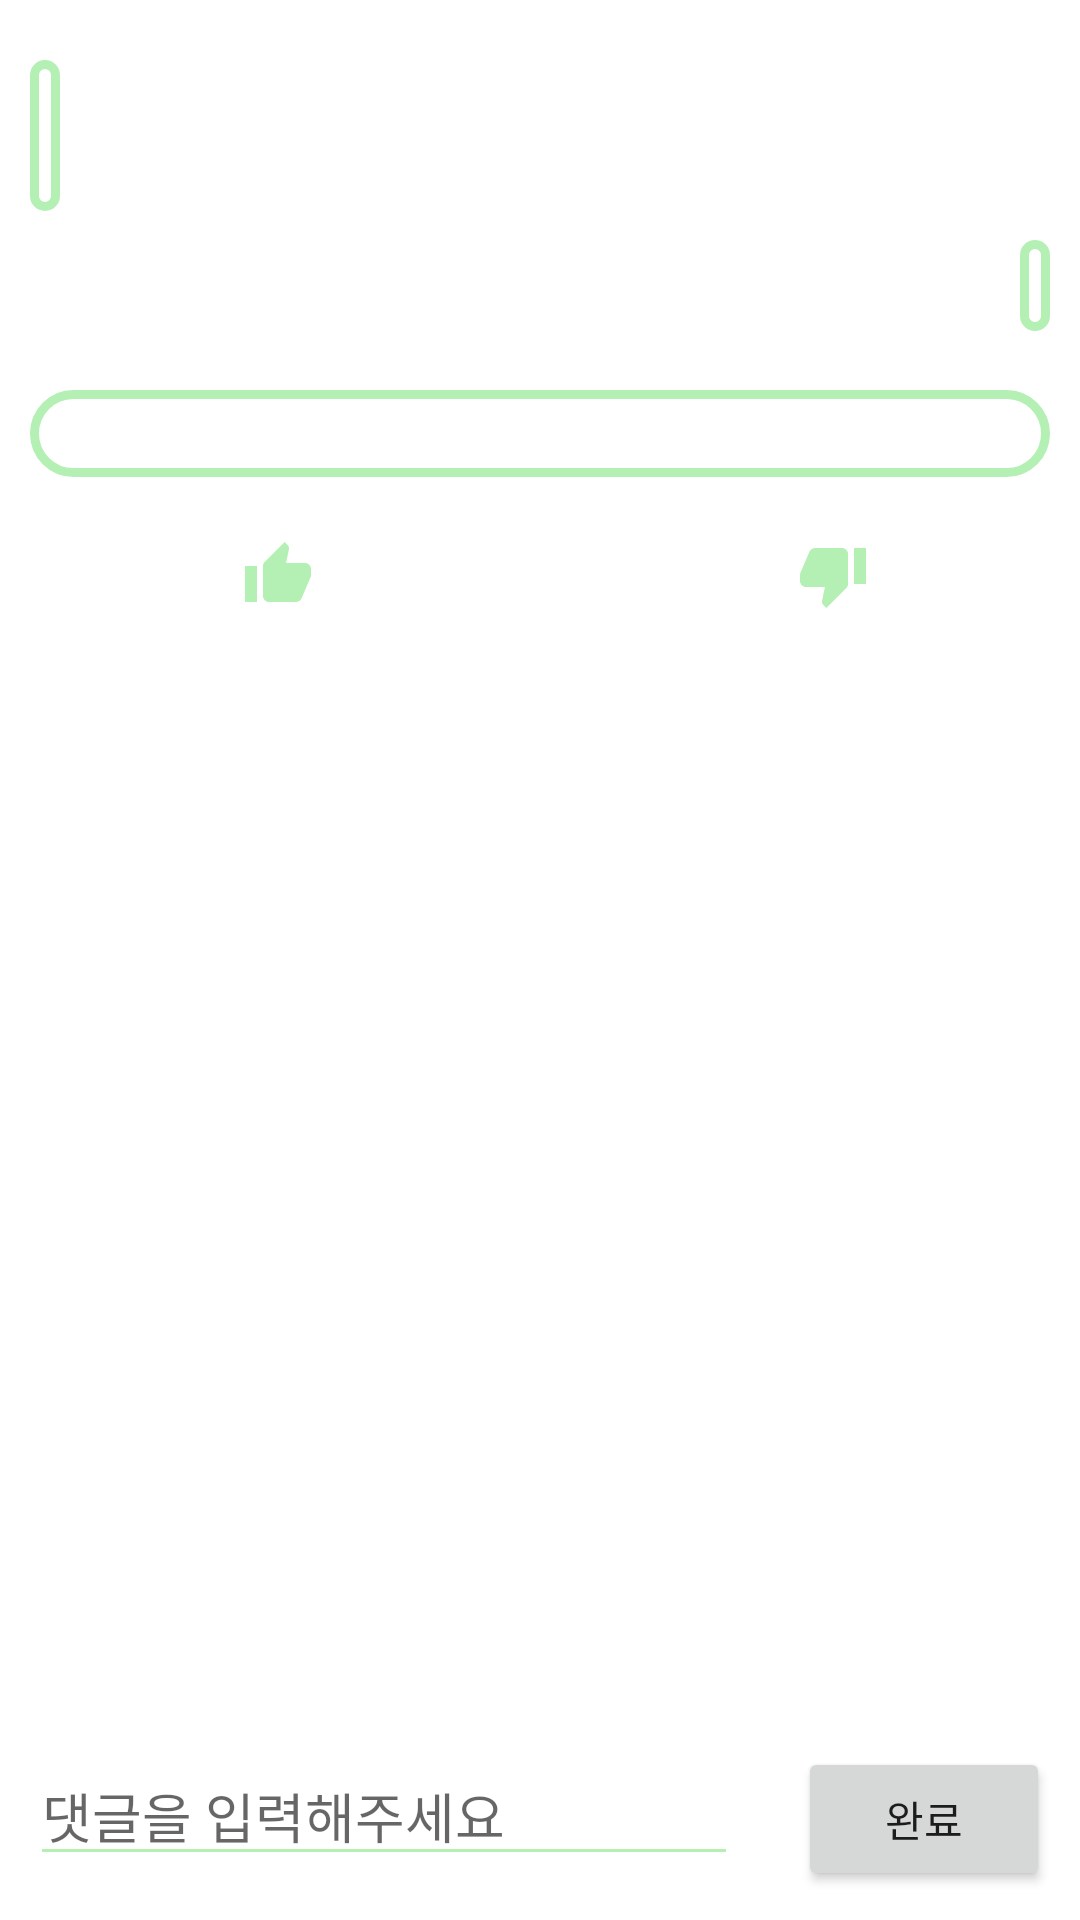

Icons on this 1080 × 1920 Android screen, each with the point to tap as (x=x, y=y):
thumb down: (x=833, y=578)
thumb up: (x=278, y=572)
